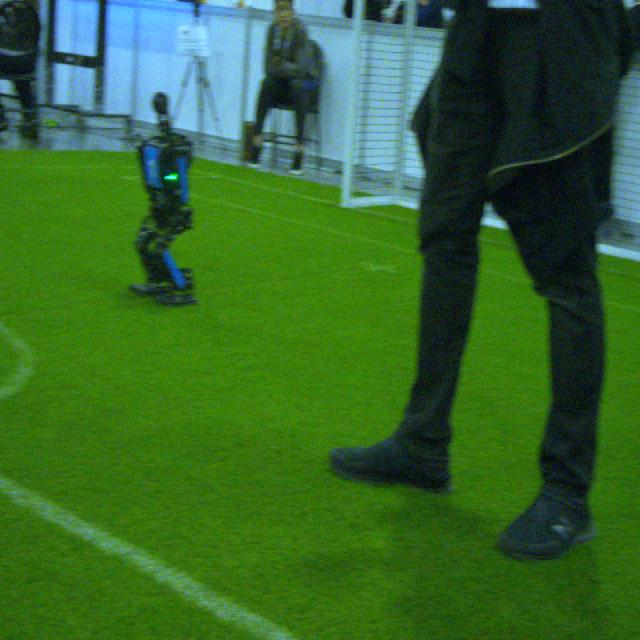goalpost: (340, 44, 359, 208)
